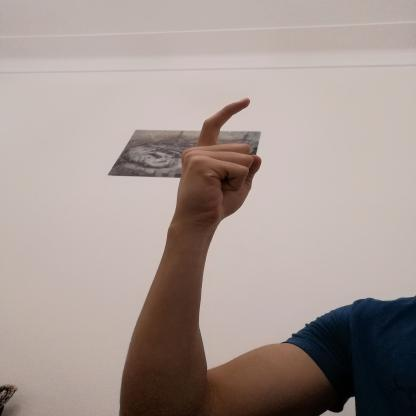RAA: (162, 91, 273, 229)
